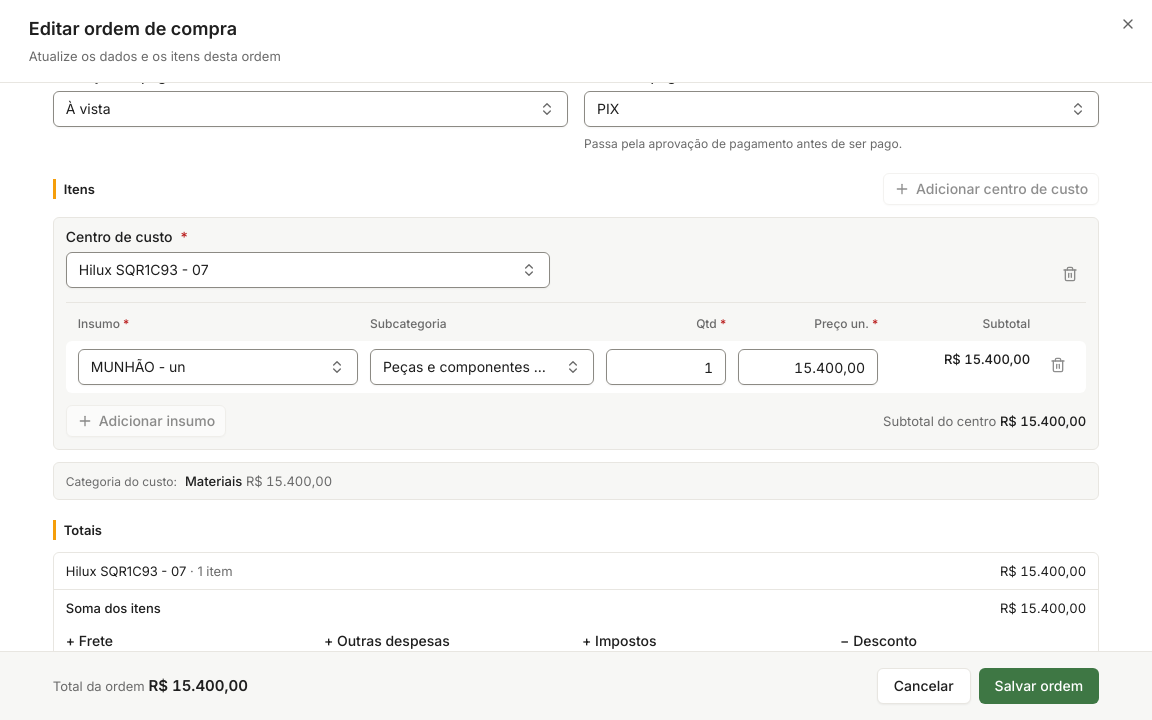
Scenario: trocar a categoria do insumo dentro da OC › salvar com subcategoria trocada NÃO grava: pede confirmação primeiro
The width and height of the screenshot is (1152, 720).
(page scrolled)
Click the dropdown named "subcategoria" at (482, 367), box [370,349,594,385]
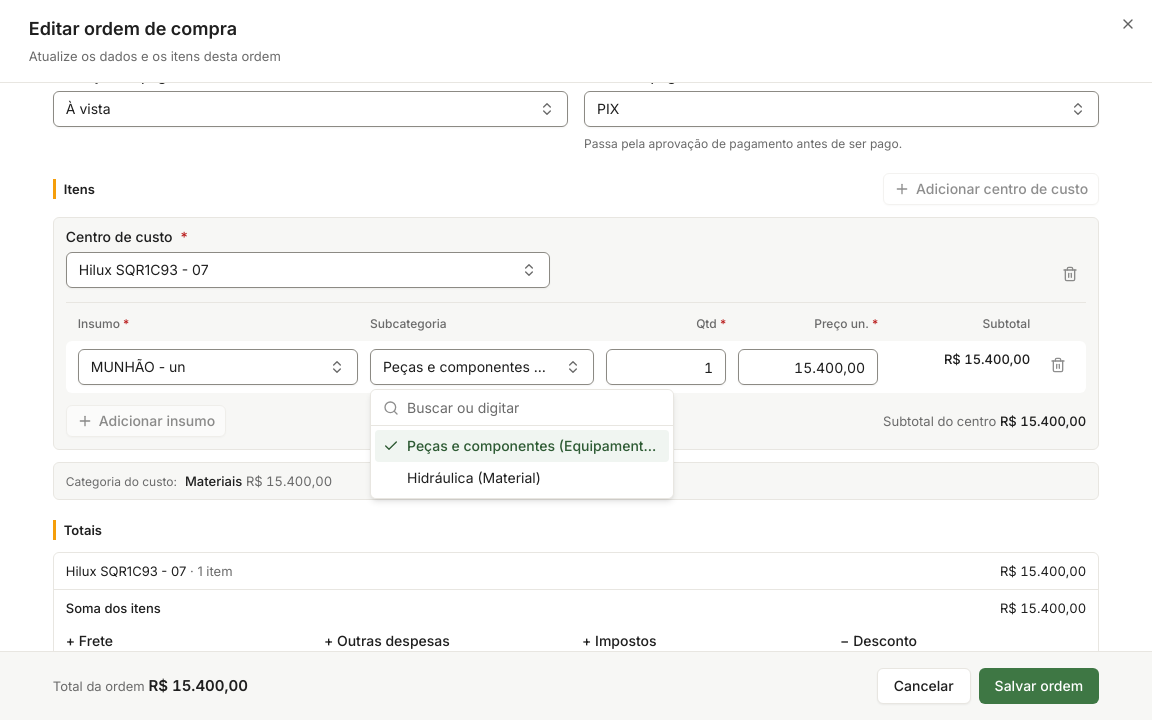
Click the option "Hidráulica (Material)" at (474, 478), box [407,469,541,486]
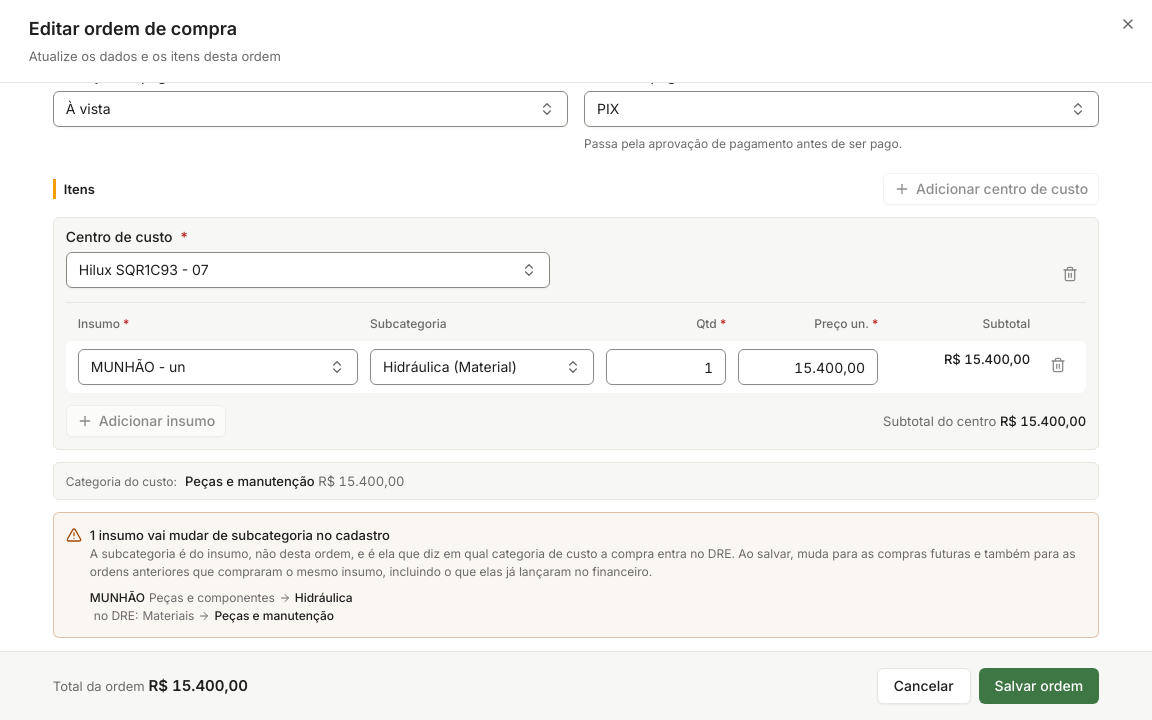
Click the button "Salvar ordem" at (1039, 686), box [979,668,1099,704]
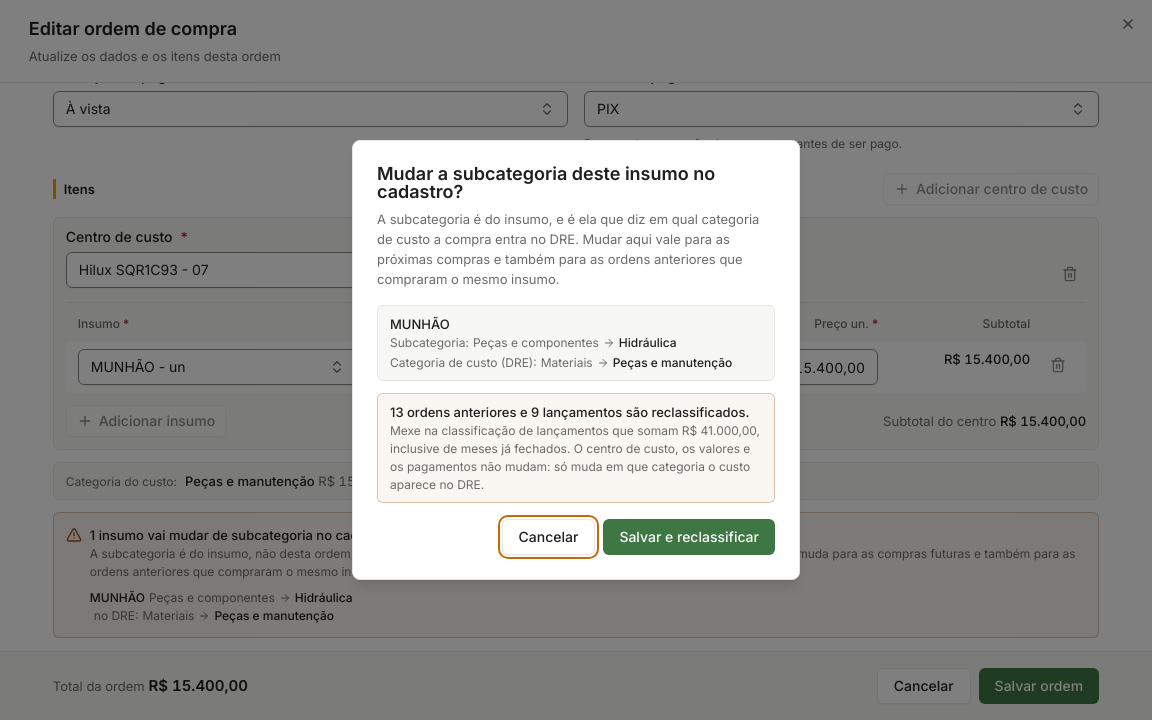
Expected: the button "Salvar e reclassificar" is shown, [603,519,775,555]
